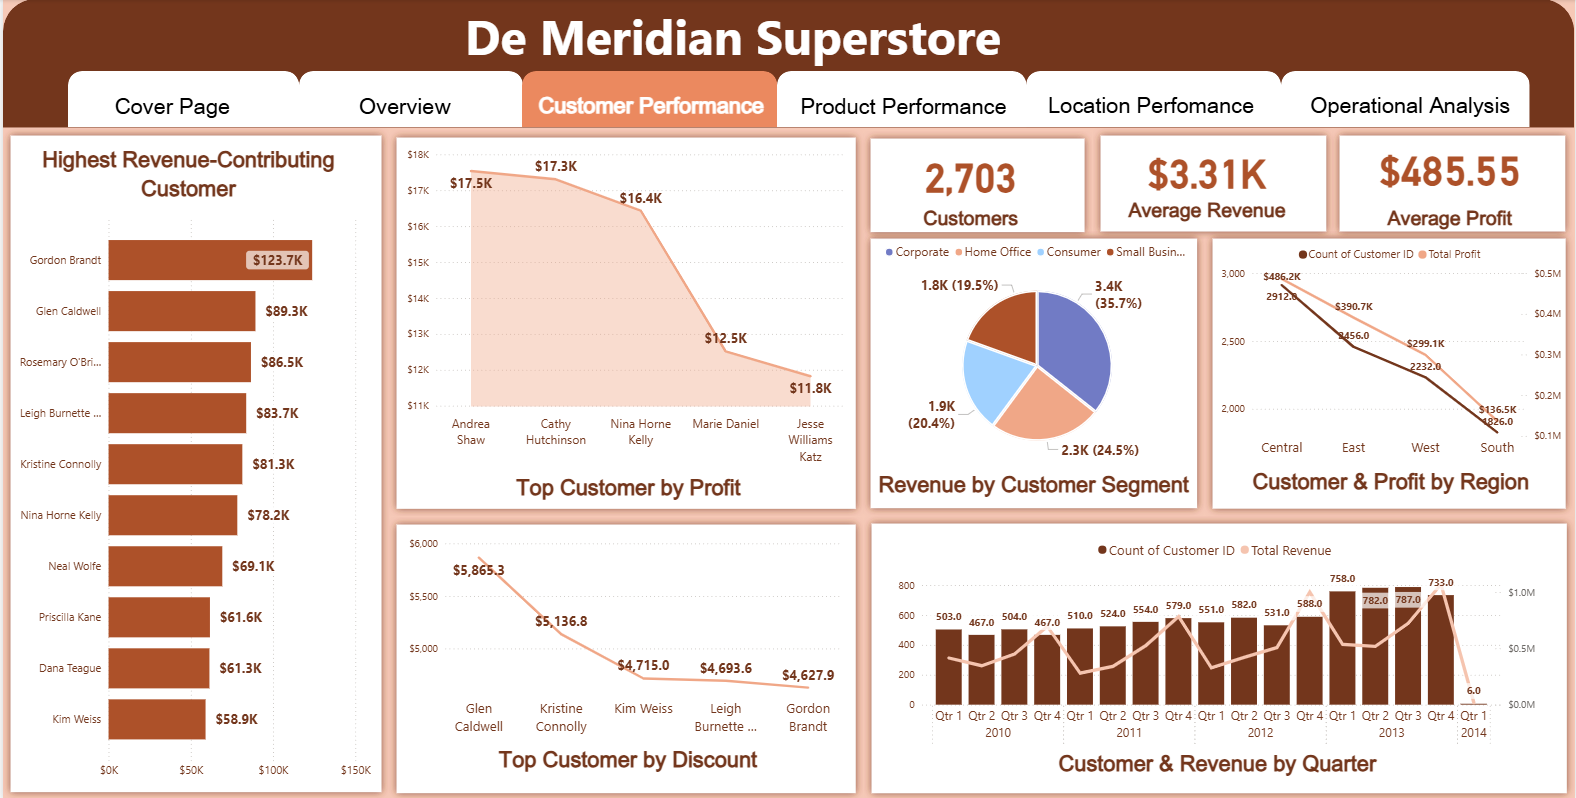

What the dashboard file says about the page in this screenshot:
{"tool":"powerbi","page":{"name":"Customer Performance","canvas":[1920,980],"ordinal":2},"visuals":[{"type":"shape","box":[0,0,1920,157.5],"z":0,"group":"g1"},{"type":"shape","box":[79,87.8,282.5,68.8],"z":1000,"group":"g1"},{"type":"shape","box":[361.5,87.8,273.8,68.8],"z":2000,"group":"g1"},{"type":"shape","box":[634.2,88,312,68.5],"z":3000,"group":"g1"},{"type":"shape","box":[946,87.8,305,68.8],"z":4000,"group":"g1"},{"type":"shape","box":[1250,88,311.8,68.5],"z":5000,"group":"g1"},{"type":"shape","box":[1561.8,88,304,68.5],"z":6000,"group":"g1"},{"type":"shape","box":[0,158,471.7,820.8],"z":7000,"group":"g1"},{"type":"shape","box":[1331.3,158.1,294.3,135.7],"z":8000,"group":"g1"},{"type":"shape","box":[1624.2,158.1,294.3,135.7],"z":9000,"group":"g1"},{"type":"shape","box":[472.2,160.4,579.6,472.2],"z":11000,"group":"g1"},{"type":"shape","box":[1051.1,284.1,417.6,348],"z":12000,"group":"g1"},{"type":"shape","box":[1468.6,283.6,450,348.6],"z":13000,"group":"g1"},{"type":"shape","box":[472.2,632.7,579.6,346.7],"z":14000,"group":"g1"},{"type":"shape","box":[1051.9,631.4,868.1,348],"z":15000,"group":"g1"},{"type":"textbox","box":[560.2,0,690.9,89.3],"z":16000,"group":"g1"},{"type":"textbox","box":[107.7,107.5,198.8,48.8],"z":17000,"group":"g1"},{"type":"textbox","box":[406.4,108.1,167.5,47.5],"z":18000,"group":"g1"},{"type":"textbox","box":[645.2,106.2,293.8,51.1],"z":19000,"group":"g1"},{"type":"textbox","box":[965.2,107.5,270,48.8],"z":20000,"group":"g1"},{"type":"textbox","box":[1262.3,106.3,281,50.1],"z":21000,"group":"g1"},{"type":"textbox","box":[1570.8,106.6,296.3,50.5],"z":22000,"group":"g1"},{"type":"textbox","box":[608.6,573.2,311.4,47.2],"z":23000,"group":"g1"},{"type":"areaChart","fields":{"Category":["Customers.Customer Name"],"Y":["Measures (2).Total Profit"]},"box":[480,176,560,400],"z":24000,"group":"g1"},{"type":"textbox","box":[1059.2,569.3,400,51.4],"z":25000,"group":"g1"},{"type":"clusteredBarChart","fields":{"Category":["Customers.Customer Name"],"Y":["Measures (2).Total Revenue"]},"box":[0,256,464,704],"z":26000,"group":"g1"},{"type":"textbox","box":[19.4,172.1,414,88],"z":27000,"group":"g1"},{"type":"pieChart","fields":{"Y":["CountNonNull(Orders.Customer ID)"],"Category":["Customers.Customer Segment"]},"box":[1072,288,384,288],"z":28000,"group":"g1"},{"type":"lineClusteredColumnComboChart","fields":{"Y":["CountNonNull(Orders.Customer ID)"],"Y2":["Measures (2).Total Revenue"],"Category":["Calendar.Date.Variation.Date Hierarchy.Year","Calendar.Date.Variation.Date Hierarchy.Quarter"]},"box":[1089.2,651.5,788.6,270],"z":29000,"group":"g1"},{"type":"lineChart","fields":{"Category":["Locations.Region"],"Y":["CountNonNull(Orders.Customer ID)"],"Y2":["Measures (2).Total Profit"]},"box":[1482.9,292.2,425.7,277.1],"z":30000,"group":"g1"},{"type":"textbox","box":[1483.2,565.9,424.9,51.7],"z":31000,"group":"g1"},{"type":"textbox","box":[1277.7,910,411.4,51.4],"z":32000,"group":"g1"},{"type":"textbox","box":[1105.6,245.3,155.7,40],"z":33000,"group":"g1"},{"type":"textbox","box":[1673.1,245.3,190,44.3],"z":34000,"group":"g1"},{"type":"card","fields":{"Values":["CountNonNull(Customers.Customer ID)"]},"box":[1115.3,174.1,143,70.8],"z":35000,"group":"g1"},{"type":"card","fields":{"Values":["Measures (2).Average Quantity by Customer"]},"box":[1665.2,168.1,205.7,71.4],"z":36000,"group":"g1"},{"type":"shape","box":[1051.3,161,280,132.9],"z":39000,"group":"g1"},{"type":"textbox","box":[1361.3,235.3,220,48.6],"z":40000,"group":"g1"},{"type":"card","fields":{"Values":["Measures (2).Avg Revenue by Customer"]},"box":[1379.9,172.4,182.9,71.4],"z":41000,"group":"g1"},{"type":"textbox","box":[1104.4,245.3,155.7,42.9],"z":42000,"group":"g1"},{"type":"card","fields":{"Values":["CountNonNull(Customers.Customer ID)"]},"box":[1110.8,177,143,70.8],"z":43000,"group":"g1"},{"type":"lineChart","fields":{"Category":["Customers.Customer Name"],"Y":["Measures (2).Discount Impact"]},"box":[490.6,651,544.9,254.7],"z":44000,"group":"g1"},{"type":"textbox","box":[594.4,905.7,339.7,49.5],"z":45000,"group":"g1"},{"type":"actionButton","box":[81.4,90,278.6,67.1],"z":46000,"group":"g1"},{"type":"actionButton","box":[362.9,90,268.6,67.1],"z":47000,"group":"g1"},{"type":"actionButton","box":[635.7,91.4,305.7,67.1],"z":48000,"group":"g1"},{"type":"actionButton","box":[947.1,91.4,305.7,67.1],"z":49000,"group":"g1"},{"type":"actionButton","box":[1255.7,91.4,305.7,67.1],"z":50000,"group":"g1"},{"type":"actionButton","box":[1561.4,91.4,305.7,67.1],"z":51000,"group":"g1"},{"type":"group","id":"g1","title":"Group 1","box":[0,0,1920,979.4],"z":51001}]}

Visuals, with their boxes in screenshot pixels (x1, y1, x2, y2), scaled from the page's 1920x980 canvas onto the 1576x798 screenshot:
shape: region(0, 0, 1575, 128)
shape: region(65, 71, 297, 128)
shape: region(297, 71, 521, 128)
shape: region(521, 72, 777, 127)
shape: region(777, 71, 1027, 128)
shape: region(1026, 72, 1282, 127)
shape: region(1282, 72, 1532, 127)
shape: region(0, 129, 387, 797)
shape: region(1093, 129, 1334, 239)
shape: region(1333, 129, 1575, 239)
shape: region(388, 131, 863, 515)
shape: region(863, 231, 1206, 515)
shape: region(1205, 231, 1575, 515)
shape: region(388, 515, 863, 797)
shape: region(863, 514, 1575, 797)
textbox: region(460, 0, 1027, 73)
textbox: region(88, 88, 252, 127)
textbox: region(334, 88, 471, 127)
textbox: region(530, 86, 771, 128)
textbox: region(792, 88, 1014, 127)
textbox: region(1036, 87, 1267, 127)
textbox: region(1289, 87, 1533, 128)
textbox: region(500, 467, 755, 505)
areaChart - Customers.Customer Name x Measures (2).Total Profit: region(394, 143, 854, 469)
textbox: region(869, 464, 1198, 505)
clusteredBarChart - Customers.Customer Name x Measures (2).Total Revenue: region(0, 208, 381, 782)
textbox: region(16, 140, 356, 212)
pieChart - CountNonNull(Orders.Customer ID) x Customers.Customer Segment: region(880, 235, 1195, 469)
lineClusteredColumnComboChart - CountNonNull(Orders.Customer ID) x Measures (2).Total Revenue: region(894, 531, 1541, 750)
lineChart - Locations.Region x CountNonNull(Orders.Customer ID): region(1217, 238, 1567, 464)
textbox: region(1217, 461, 1566, 503)
textbox: region(1049, 741, 1386, 783)
textbox: region(908, 200, 1035, 232)
textbox: region(1373, 200, 1529, 236)
card - CountNonNull(Customers.Customer ID): region(915, 142, 1033, 199)
card - Measures (2).Average Quantity by Customer: region(1367, 137, 1536, 195)
shape: region(863, 131, 1093, 239)
textbox: region(1117, 192, 1298, 231)
card - Measures (2).Avg Revenue by Customer: region(1133, 140, 1283, 199)
textbox: region(907, 200, 1034, 235)
card - CountNonNull(Customers.Customer ID): region(912, 144, 1029, 202)
lineChart - Customers.Customer Name x Measures (2).Discount Impact: region(403, 530, 850, 737)
textbox: region(488, 737, 767, 778)
actionButton: region(67, 73, 296, 128)
actionButton: region(298, 73, 518, 128)
actionButton: region(522, 74, 773, 129)
actionButton: region(777, 74, 1028, 129)
actionButton: region(1031, 74, 1282, 129)
actionButton: region(1282, 74, 1533, 129)
"Group 1" group: region(0, 0, 1575, 797)
